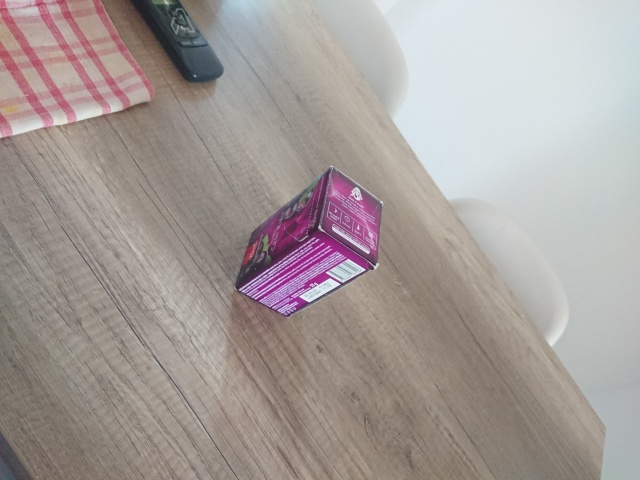Franck Black Currant Tea 60g: (233, 164, 386, 320)
